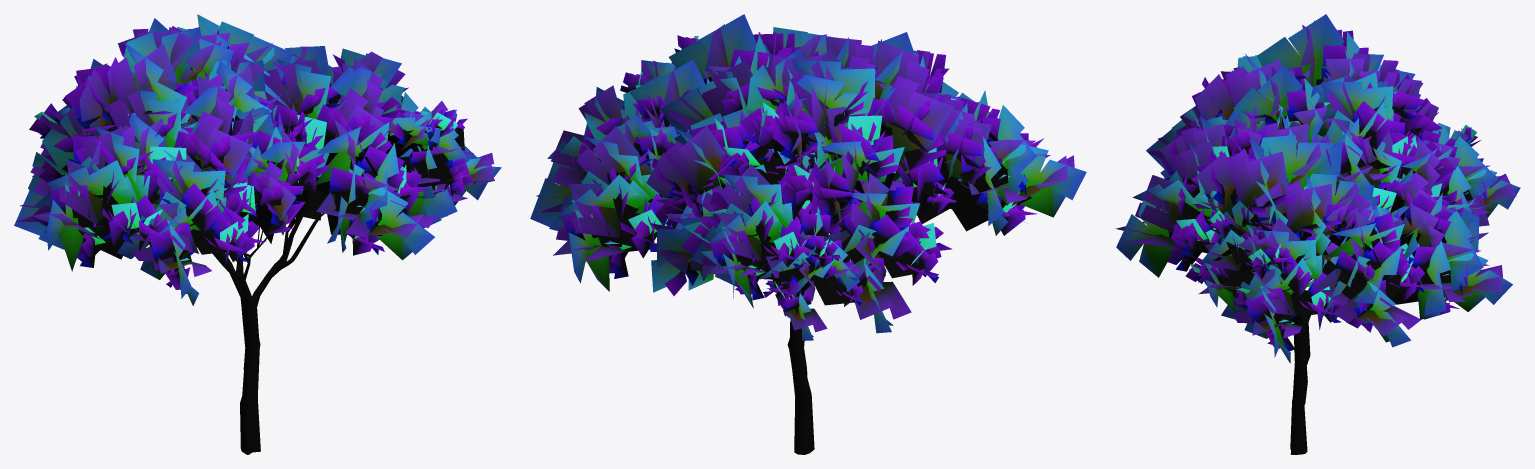
File: pine_test5.dae
3 views of the same model, side by side, from view 1: azimuth 30°, elevation 25°; view 2: azimuth 150°, elevation 25°; view 3: azimuth 270°, elevation 25° (orthographic). The views are drawn at different scales.
Parts seen in each view (by area): view 1: scots_pine_002; view 2: scots_pine_002; view 3: scots_pine_002.
Part boxes in pixels (<box>): scots_pine_002: <box>14,14,501,454</box>; scots_pine_002: <box>530,14,1086,454</box>; scots_pine_002: <box>1115,14,1520,454</box>.
Bounding box in the file's own units: 13.34 × 10.84 × 11.45.
